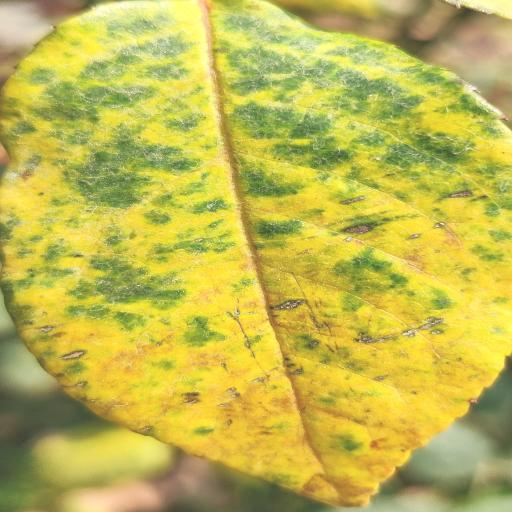red_mite: (2, 0, 512, 506)
